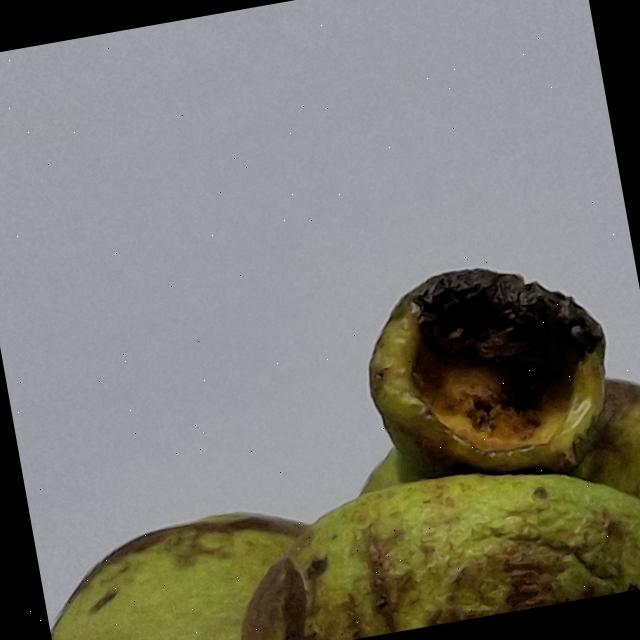mangosteen: (0, 47, 640, 640)
